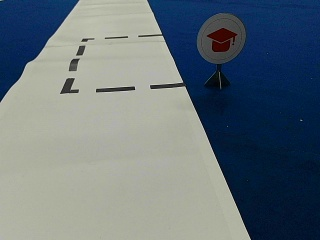school: (197, 14, 245, 62)
